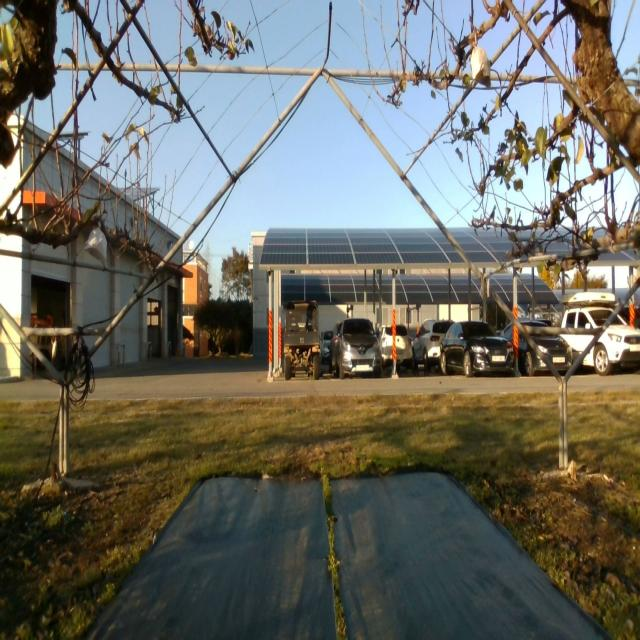pearbags: (470, 32, 490, 88), (84, 222, 108, 268)
